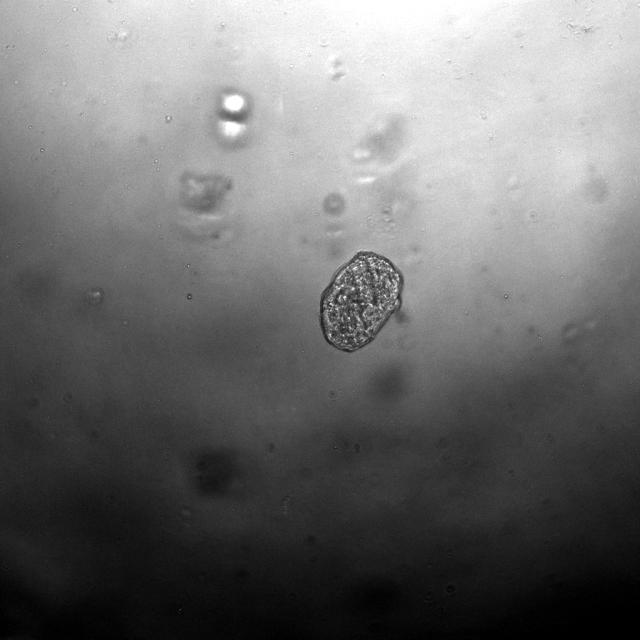organoid: (319, 250, 402, 352)
